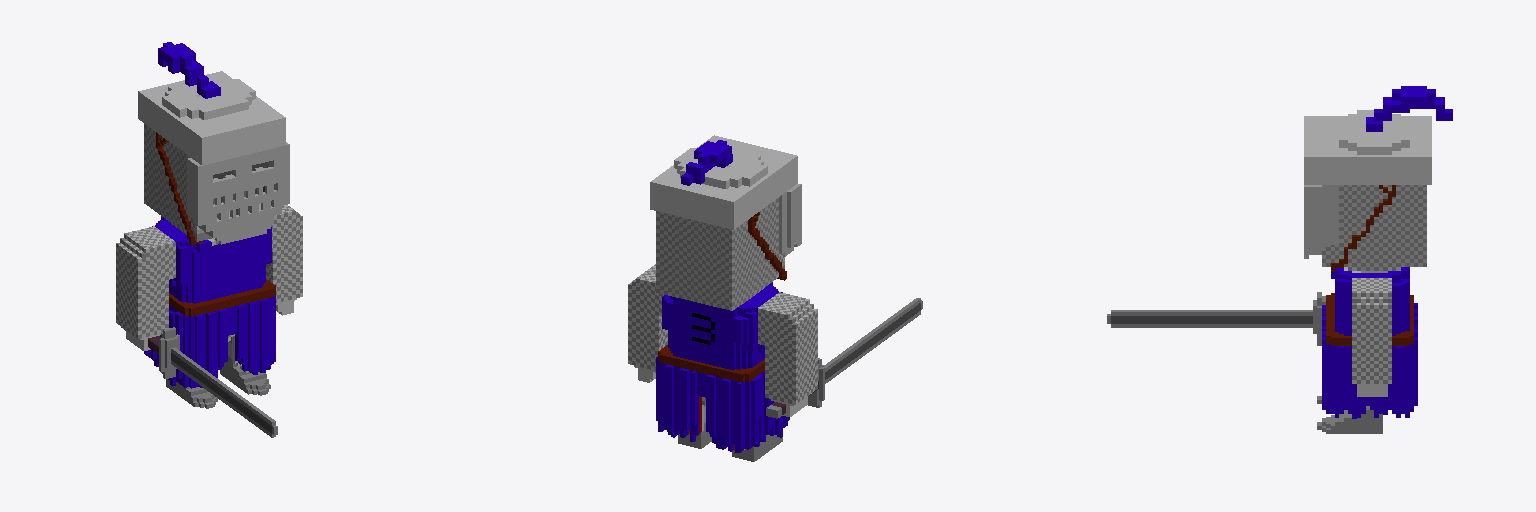
3 renders of one model, left to right at view 1: azimuth 30°, elevation 25°; view 2: azimuth 150°, elevation 25°; view 3: azimuth 270°, elevation 25°, orthographic.
Visible parts, largest first — view 1: object 1; view 2: object 1; view 3: object 1.
Boxes of the visible parts, x1,y1,x2,y2 form: object 1: [116, 42, 302, 437]; object 1: [628, 135, 922, 461]; object 1: [1107, 86, 1452, 433].
Bounding box in the file's own units: 4.4 × 8 × 7.9.
1 materials, 1 textured.